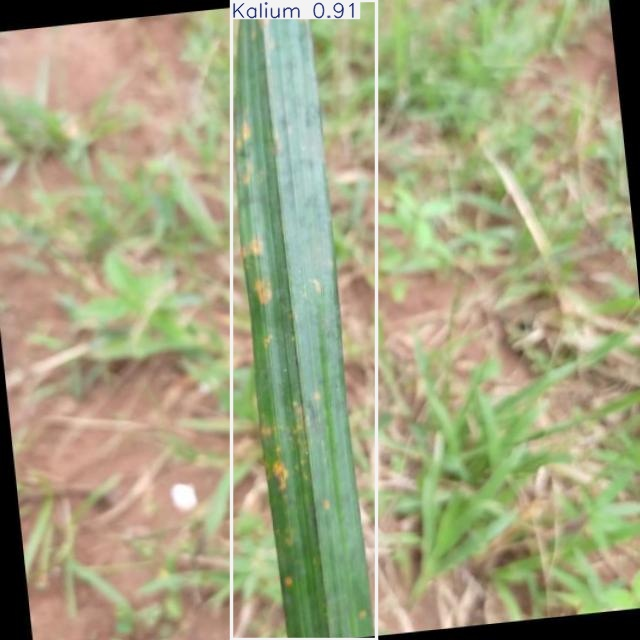Kalium: (232, 0, 377, 640)
